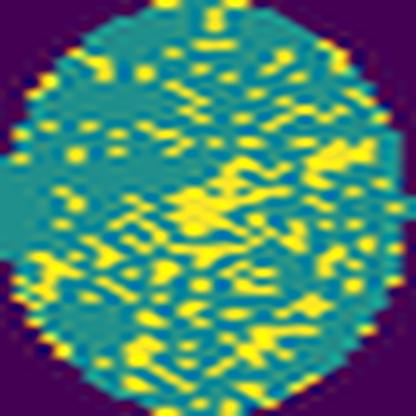Edge-Loc: (122, 255, 283, 392), (109, 156, 299, 268), (205, 321, 317, 378), (301, 135, 383, 188)
